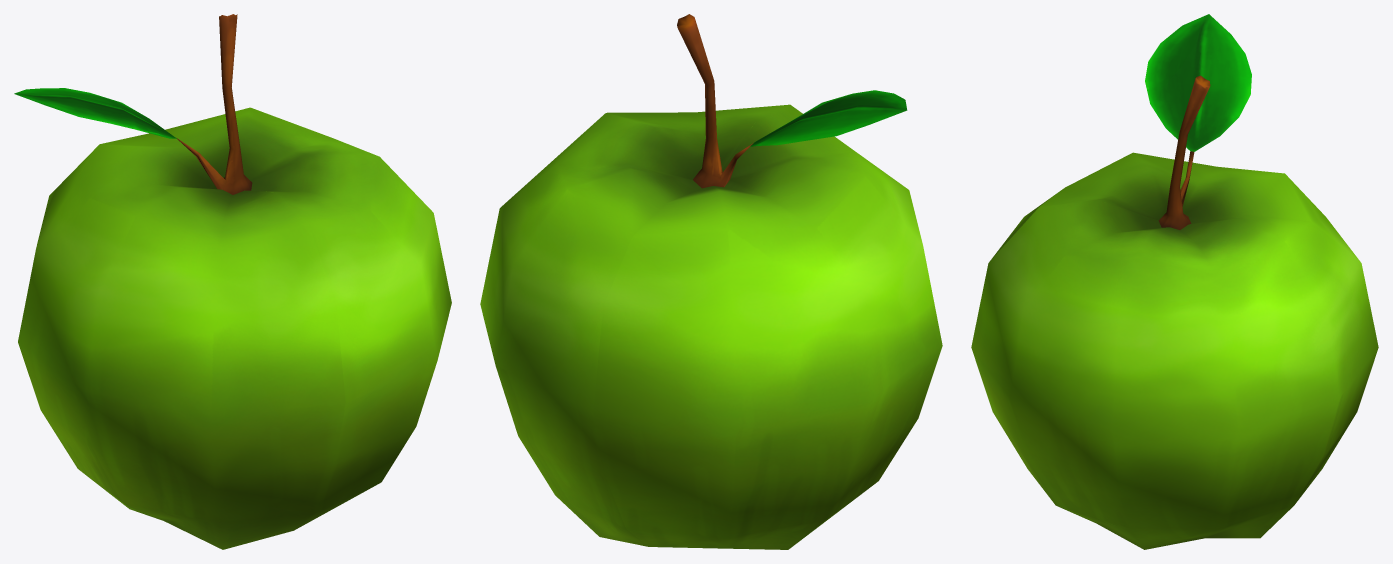
File: apple-green.fbx
The picture shows the model from 3 angles, left to right: view 1: azimuth 30°, elevation 25°; view 2: azimuth 150°, elevation 25°; view 3: azimuth 270°, elevation 25°; orthographic projection. The views are drawn at different scales.
Parts seen in each view (by area): view 1: apple-green; view 2: apple-green; view 3: apple-green.
Part boxes in pixels (bbox=[...]): apple-green: bbox=[14, 14, 451, 549]; apple-green: bbox=[480, 14, 942, 549]; apple-green: bbox=[971, 14, 1378, 549].
Size of the model in its own units: 1.86 by 2.24 by 1.86.
